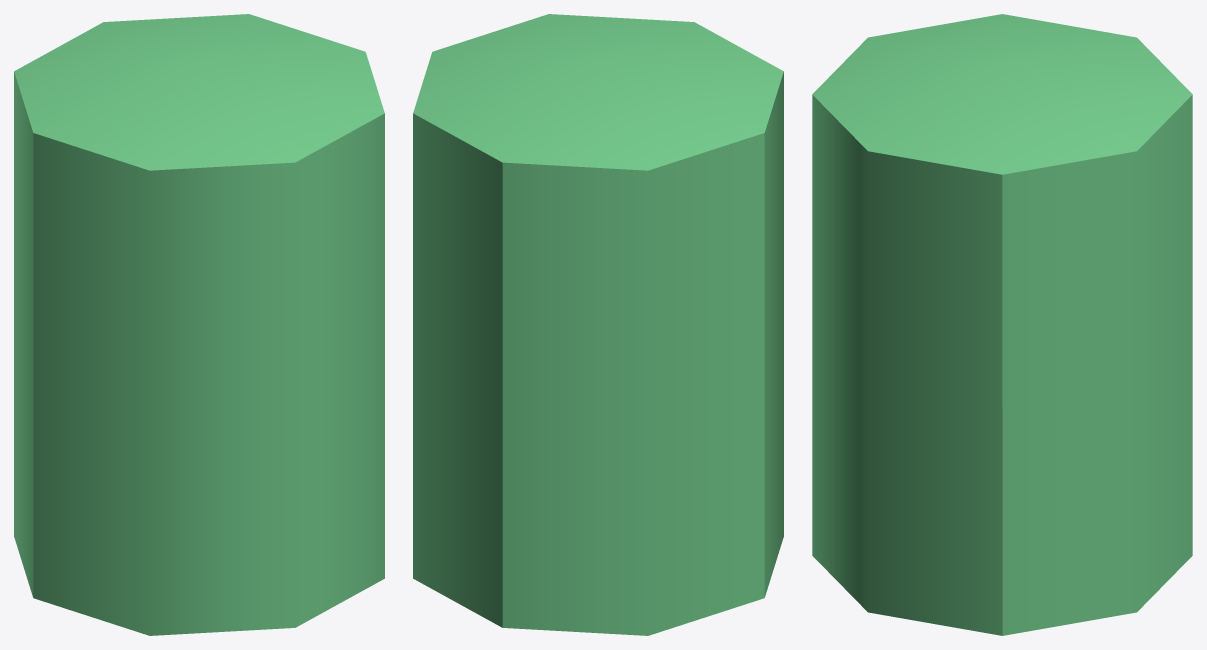
Rendered from Pipe_Thick_End_COL.fbx.
3 views of the same model, side by side, from view 1: azimuth 30°, elevation 25°; view 2: azimuth 150°, elevation 25°; view 3: azimuth 270°, elevation 25° (orthographic).
Visible parts, largest first — view 1: Pipe_Thick_End_COL; view 2: Pipe_Thick_End_COL; view 3: Pipe_Thick_End_COL.
Part boxes in pixels (left/top/right/bottom): Pipe_Thick_End_COL: left=14, top=14, right=384, bottom=635; Pipe_Thick_End_COL: left=413, top=14, right=783, bottom=635; Pipe_Thick_End_COL: left=812, top=14, right=1192, bottom=635.
Size of the model in its own units: 275 by 390 by 275.
